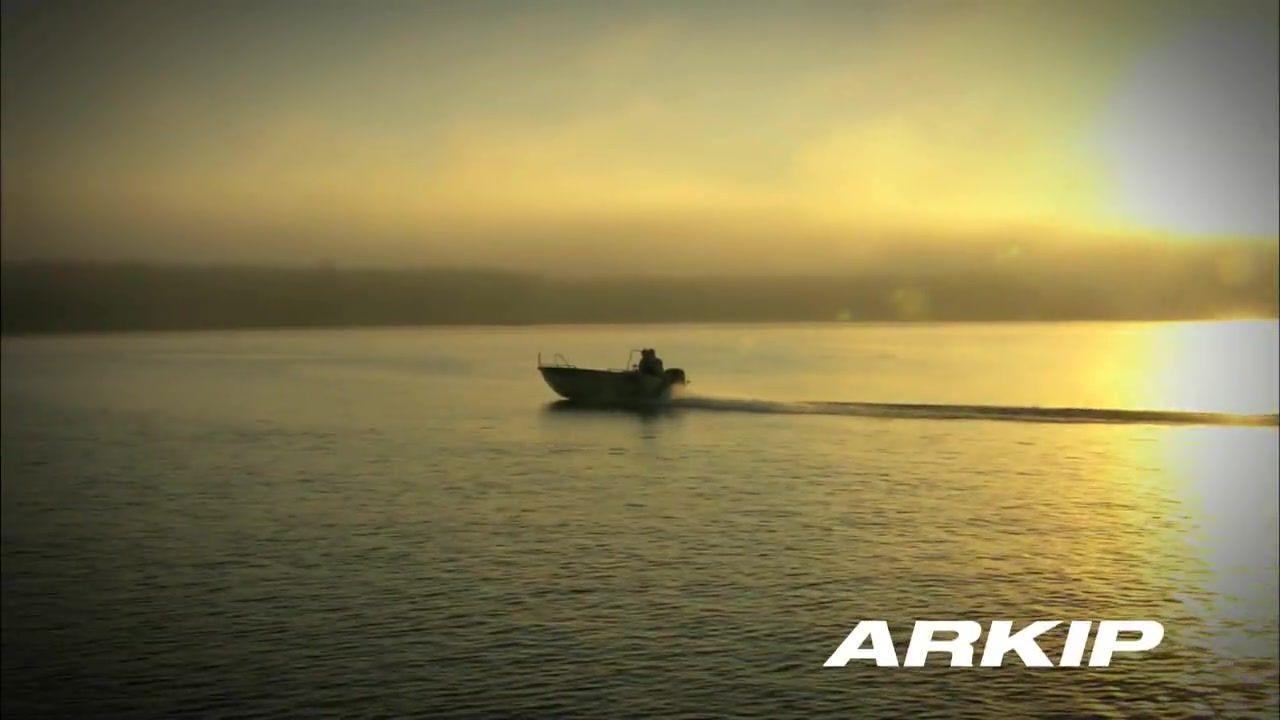boat: (532, 346, 692, 407)
